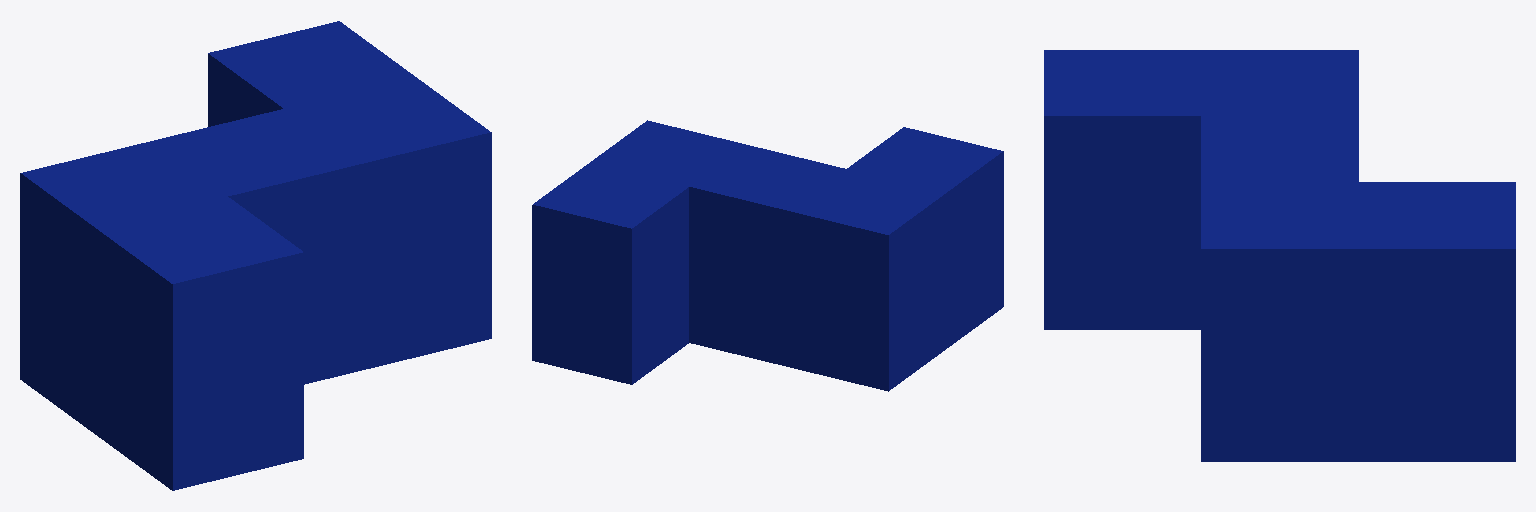
The robot description file, URDF, robot "block":
<robot name="block">
  <link name="block_base_link">
    <inertial>
      <origin rpy="0 0 0" xyz="-0.01 0.05 0.015"/>
      <mass value="0.05"/>
      <inertia ixx="1.61e-05" ixy="9.6e-06" ixz="0.0" iyy="2.57e-05" iyz="0.0" izz="3.28e-05"/>
    </inertial>
    <collision>
      
      <geometry>
        <mesh filename="3.STL" scale="1 1 1"/>
      </geometry>
    </collision>
    <visual>
 
      <geometry>
        <mesh filename="3.STL" scale="1 1 1"/>
      </geometry>
      <material name="tray_material">
        <color rgba="0.1 0.2 0.6 1"/>
      </material>
    </visual>
  </link>
</robot>

--- Facts derived from the render (not from the file) ---
3 views of the same robot in one strip: view 1: azimuth 30°, elevation 25°; view 2: azimuth 150°, elevation 25°; view 3: azimuth 270°, elevation 25° (orthographic).
Robot: block — 1 links, 0 joints (none); root link block_base_link; default pose: every joint at zero.
Visible links, largest first — view 1: block_base_link; view 2: block_base_link; view 3: block_base_link.
Boxes of the visible links, left/top/right/bottom form: block_base_link: left=20, top=21, right=491, bottom=490; block_base_link: left=532, top=120, right=1003, bottom=391; block_base_link: left=1044, top=50, right=1515, bottom=461.
Bounding box of the posed robot: 0.06 × 0.06 × 0.03 m (x, y, z).
1 mesh visuals loaded from 1 distinct referenced files (1 binary STL).